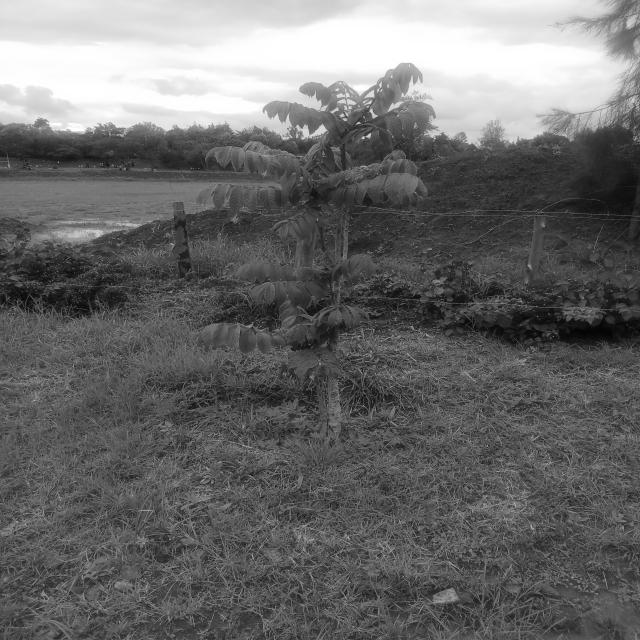Polyscias Kikuyensis: (187, 51, 480, 442)
